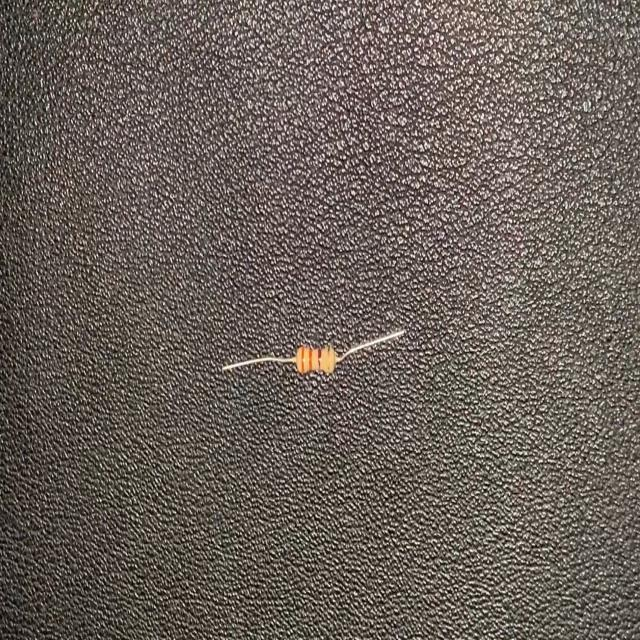faded: (324, 335, 337, 374)
resistor: (218, 324, 407, 380)
